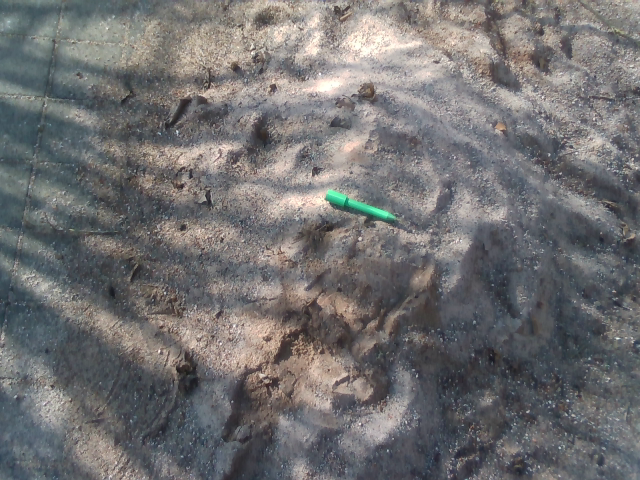Probe: (322, 186, 402, 226)
